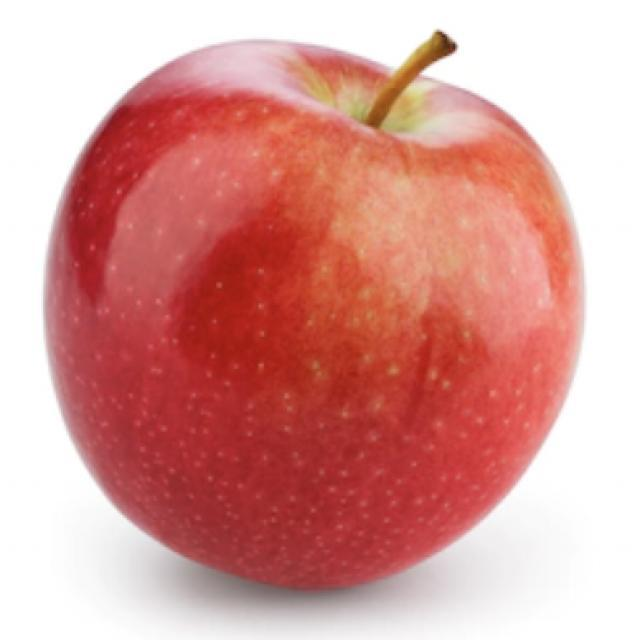Fresh Apple: (70, 45, 610, 640)
